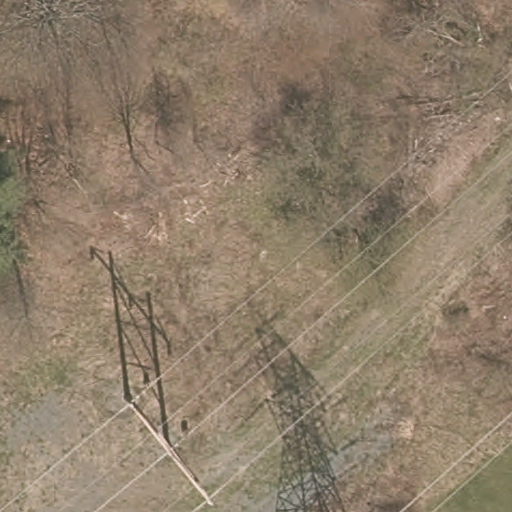DT: (123, 399, 219, 507)
